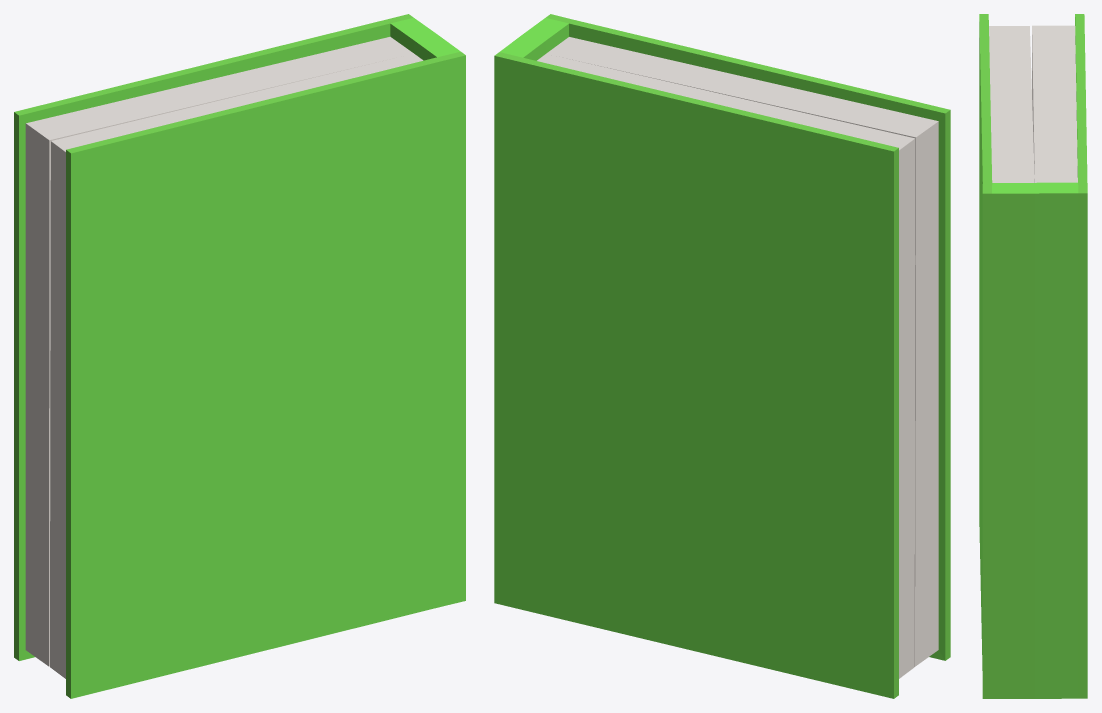
File: book 1.fbx
3 renders of one model, left to right at view 1: azimuth 30°, elevation 25°; view 2: azimuth 150°, elevation 25°; view 3: azimuth 270°, elevation 25°, orthographic. The views are drawn at different scales.
Parts seen in each view (by area): view 1: book 4; view 2: book 4; view 3: book 4.
Part boxes in pixels (x1,y1,x2,y2): book 4: (14, 14, 465, 698); book 4: (494, 14, 950, 698); book 4: (979, 14, 1087, 698).
Size of the model in its own units: 155 by 204 by 39.63.
1 material, 1 textured.
